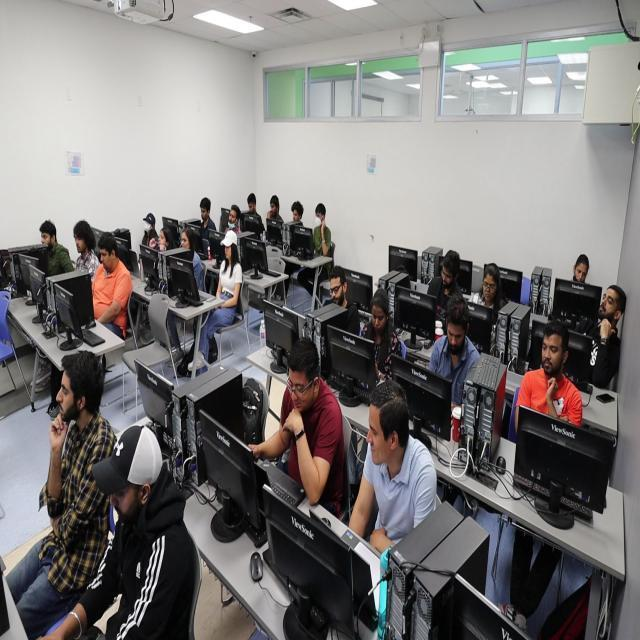Looking away: (105, 472, 151, 526), (366, 401, 398, 468), (285, 364, 317, 416), (540, 331, 564, 378), (444, 316, 467, 356), (328, 271, 348, 309), (482, 271, 501, 304), (439, 258, 457, 292), (370, 304, 389, 336), (572, 258, 590, 286), (98, 244, 114, 274), (74, 230, 88, 253), (199, 205, 214, 222), (180, 230, 191, 253)
Looking forward: (56, 362, 89, 424), (596, 284, 621, 328), (40, 228, 53, 251), (223, 241, 234, 261), (158, 230, 168, 251)
